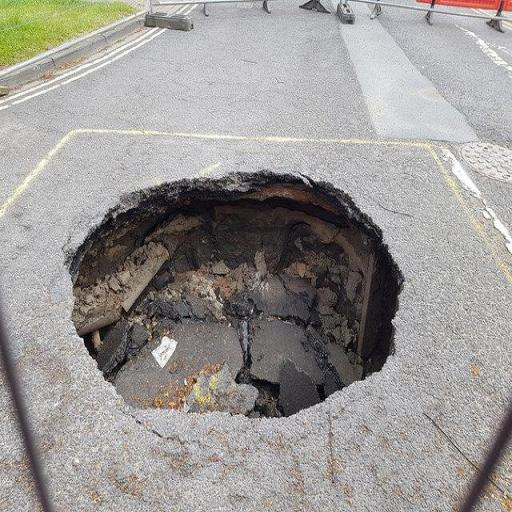Concentric_Crack: (69, 172, 403, 416)
